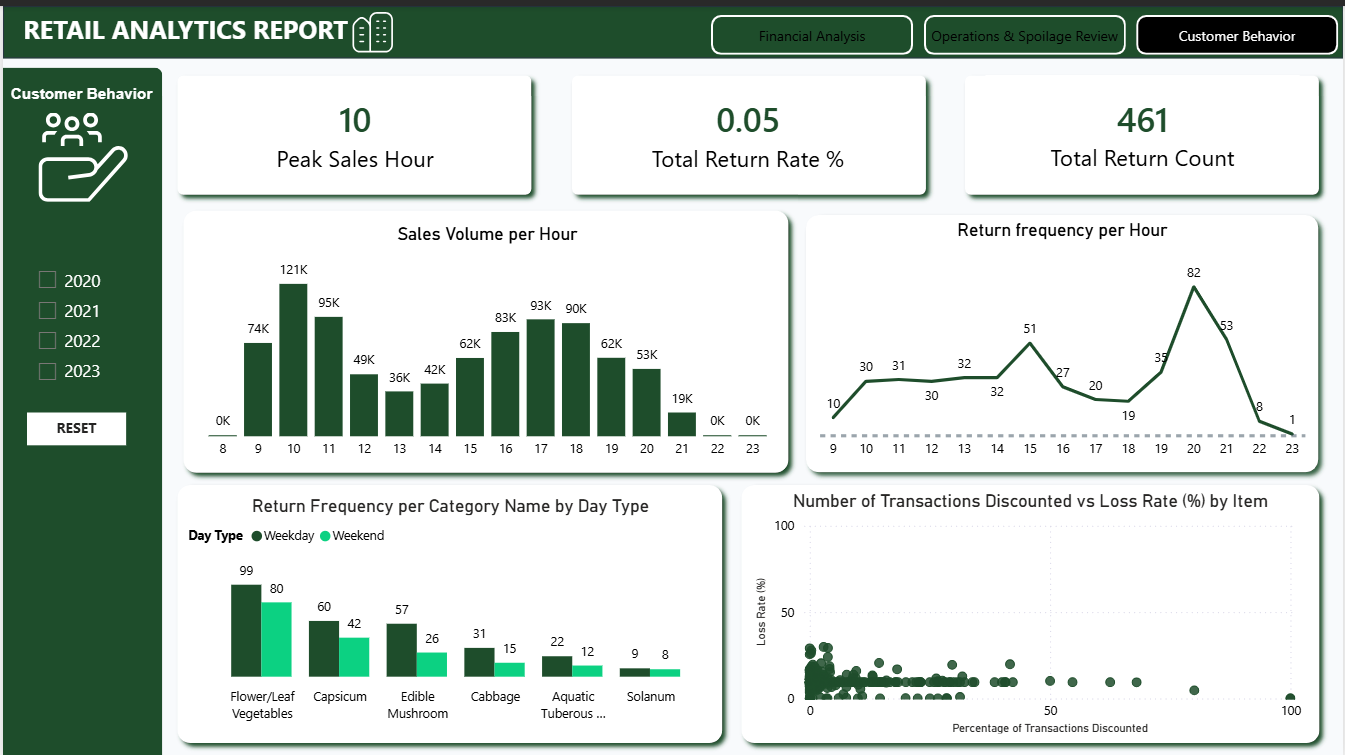

Layout of this report page (visuals, bound fields, positions):
{"tool":"powerbi","page":{"name":"Customer Behavior ","canvas":[1280,720],"ordinal":2},"visuals":[{"type":"shape","box":[162.9,185.7,595.7,268.6],"z":0},{"type":"shape","box":[0,0,1280,50],"z":1000},{"type":"shape","box":[0,58.5,152.3,661.5],"z":2000},{"type":"shape","box":[158,58,356,132],"z":3000},{"type":"shape","box":[695.5,448.2,570,264.5],"z":4000},{"type":"shape","box":[158.2,448.2,538.2,264.5],"z":5000},{"type":"shape","box":[758.2,190,507.3,263.6],"z":6000},{"type":"scatterChart","title":"Number of Transactions Discounted vs Loss Rate (%) by Item","fields":{"Category":["public question_10_discount_freshness.Item Name"],"X":["Sum(public question_10_discount_freshness.Percentage of Transactions Discounted)"],"Y":["Sum(public question_10_discount_freshness.Loss Rate (%))"]},"box":[713.6,462.7,535.5,237.3],"z":7000},{"type":"columnChart","title":"Sales Volume per Hour","fields":{"Category":["Retail Analysis question_7_peak_hours.Hour"],"Y":["Sum(Retail Analysis question_7_peak_hours.sales_amount)"]},"box":[177.1,207.1,570,232.9],"z":8000},{"type":"slicer","fields":{"Values":["Retail Analysis date_dimension.Year"]},"box":[22,242,128,150],"z":9000},{"type":"shape","box":[534,58,356,132],"z":10000},{"type":"shape","box":[910,58,356,132],"z":11000},{"type":"cardVisual","fields":{"Data":["_measures.Peak Sales Hour"]},"box":[186.7,66.7,300,111.7],"z":12000},{"type":"cardVisual","fields":{"Data":["_measures.Total Return Rate %"]},"box":[561.7,66.7,300,111.7],"z":13000},{"type":"cardVisual","fields":{"Data":["_measures.Total Transactions"]},"box":[938,66,300,112],"z":14000},{"type":"pageNavigator","box":[676,8,600,38],"z":15000},{"type":"textbox","box":[14,0,782,50],"z":16000},{"type":"textbox","box":[0.6,68.8,150,58.1],"z":17000},{"type":"image","box":[324.3,5.7,58.6,38.6],"z":18000},{"type":"image","box":[26.7,101.7,98.3,85],"z":19000},{"type":"textbox","box":[22.2,388.9,94.4,31.1],"z":20000},{"type":"actionButton","box":[21.7,388.3,95,31.7],"z":21000},{"type":"lineChart","title":"Return frequency per Hour","fields":{"Category":["Retail Analysis question_9_return_timing.Hour"],"Y":["Sum(Retail Analysis question_9_return_timing.return_amount)"]},"box":[775.6,203.3,473.3,236.7],"z":22000},{"type":"clusteredColumnChart","title":"Return Frequency per Category Name by Day Type","fields":{"Category":["Retail Analysis question_8_return_patterns.Category Name"],"Y":["Sum(Retail Analysis question_8_return_patterns.return_amount)"],"Series":["Retail Analysis question_8_return_patterns.Day Type"]},"box":[171.7,467.5,510.8,224.2],"z":23000}]}

Visuals, with their boxes in screenshot pixels (x1, y1, x2, y2), scaled from the page's 1280x720 canvas onto the 1345x755 screenshot:
shape: 171,195,797,476
shape: 0,0,1344,52
shape: 0,61,160,754
shape: 166,61,540,199
shape: 731,470,1330,747
shape: 166,470,732,747
shape: 797,199,1330,476
"Number of Transactions Discounted vs Loss Rate (%) by Item" scatterChart: 750,485,1313,734
"Sales Volume per Hour" columnChart: 186,217,785,461
slicer - Retail Analysis date_dimension.Year: 23,254,158,411
shape: 561,61,935,199
shape: 956,61,1330,199
cardVisual - _measures.Peak Sales Hour: 196,70,511,187
cardVisual - _measures.Total Return Rate %: 590,70,905,187
cardVisual - _measures.Total Transactions: 986,69,1301,187
pageNavigator: 710,8,1341,48
textbox: 15,0,836,52
textbox: 1,72,158,133
image: 341,6,402,46
image: 28,107,131,196
textbox: 23,408,123,440
actionButton: 23,407,123,440
"Return frequency per Hour" lineChart: 815,213,1312,461
"Return Frequency per Category Name by Day Type" clusteredColumnChart: 180,490,717,725
